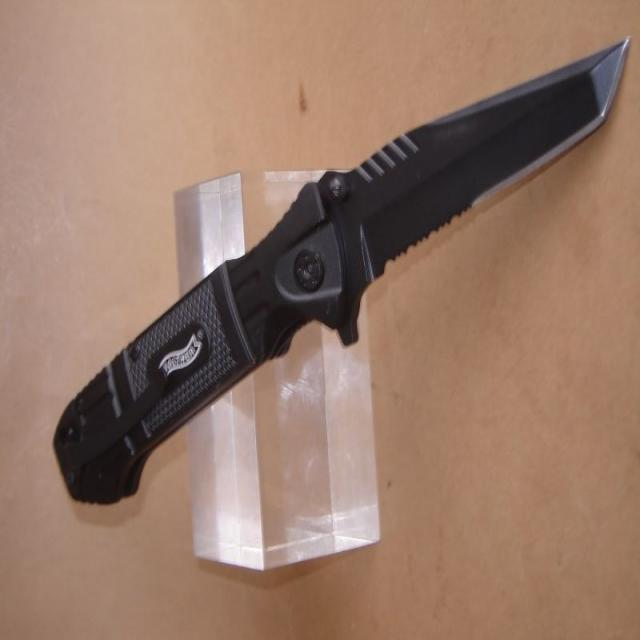knife: (50, 31, 634, 513)
